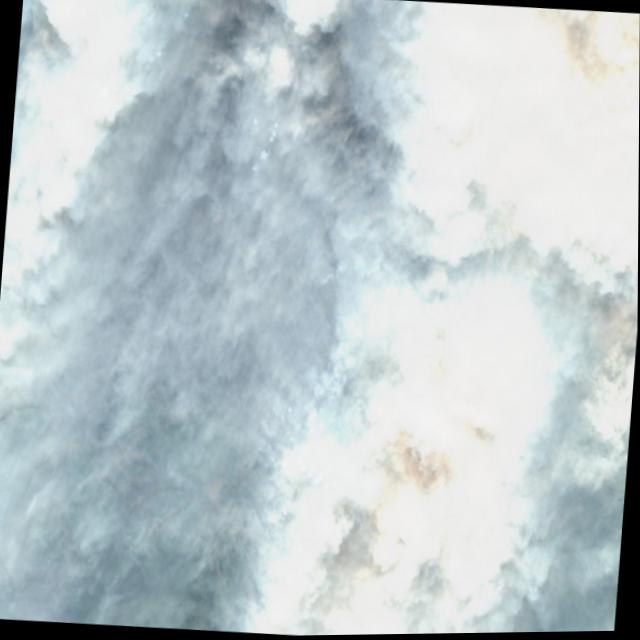fire: (274, 0, 610, 637)
